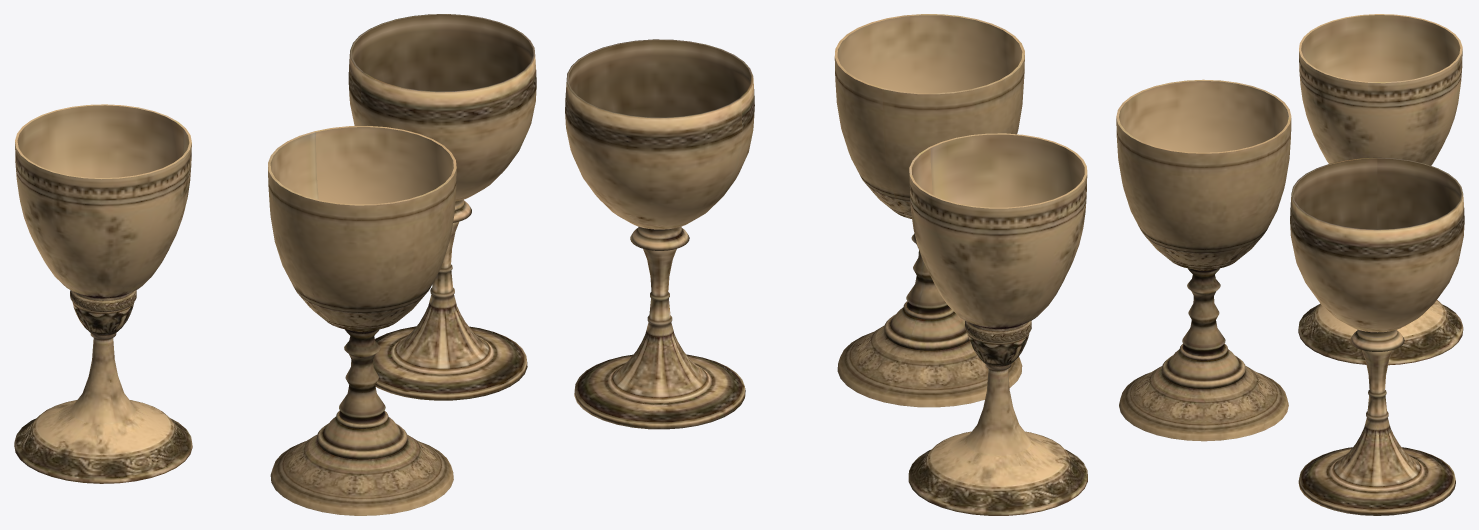
Rendered from brass_goblets_1k.gltf.
3 renders of one model, left to right at view 1: azimuth 30°, elevation 25°; view 2: azimuth 150°, elevation 25°; view 3: azimuth 270°, elevation 25°, orthographic. The views are drawn at different scales.
Visible parts, largest first — view 1: brass_goblet_01, brass_goblet_02, brass_goblet_03; view 2: brass_goblet_02, brass_goblet_03, brass_goblet_01; view 3: brass_goblet_01, brass_goblet_03, brass_goblet_02.
Part boxes in pixels (left/top/right/bottom): brass_goblet_01: left=268, top=126, right=456, bottom=515; brass_goblet_02: left=14, top=104, right=192, bottom=483; brass_goblet_03: left=348, top=14, right=536, bottom=400; brass_goblet_02: left=908, top=133, right=1087, bottom=515; brass_goblet_03: left=565, top=39, right=754, bottom=429; brass_goblet_01: left=834, top=14, right=1024, bottom=407; brass_goblet_01: left=1116, top=79, right=1291, bottom=441; brass_goblet_03: left=1290, top=157, right=1464, bottom=515; brass_goblet_02: left=1298, top=14, right=1463, bottom=365.
Size of the model in its own units: 0.4534 by 0.2734 by 0.2976.
Materials: 3 (3 with a texture image).
